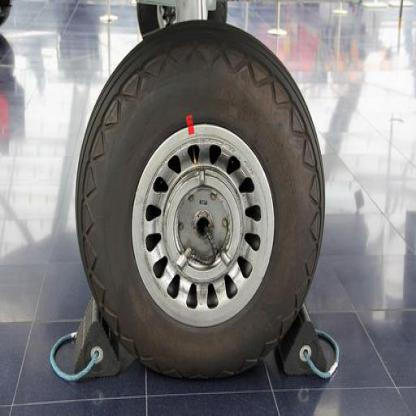Tire: (73, 18, 325, 380)
